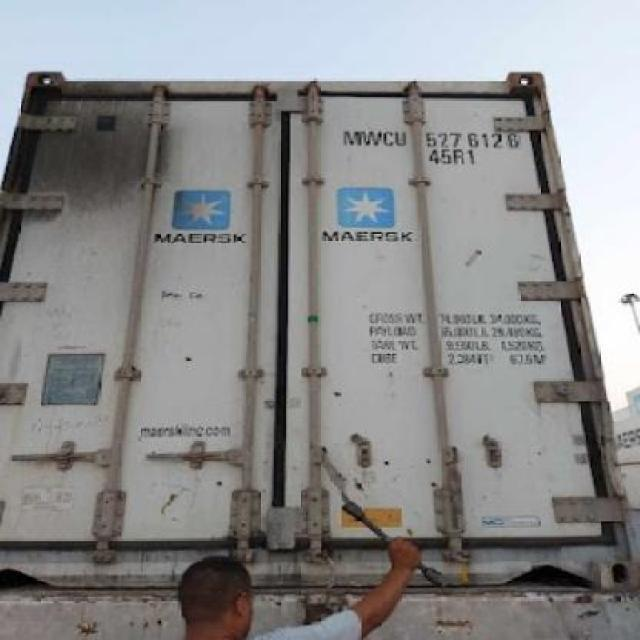ISO: (430, 149, 474, 167)
container_number: (349, 126, 522, 150)
